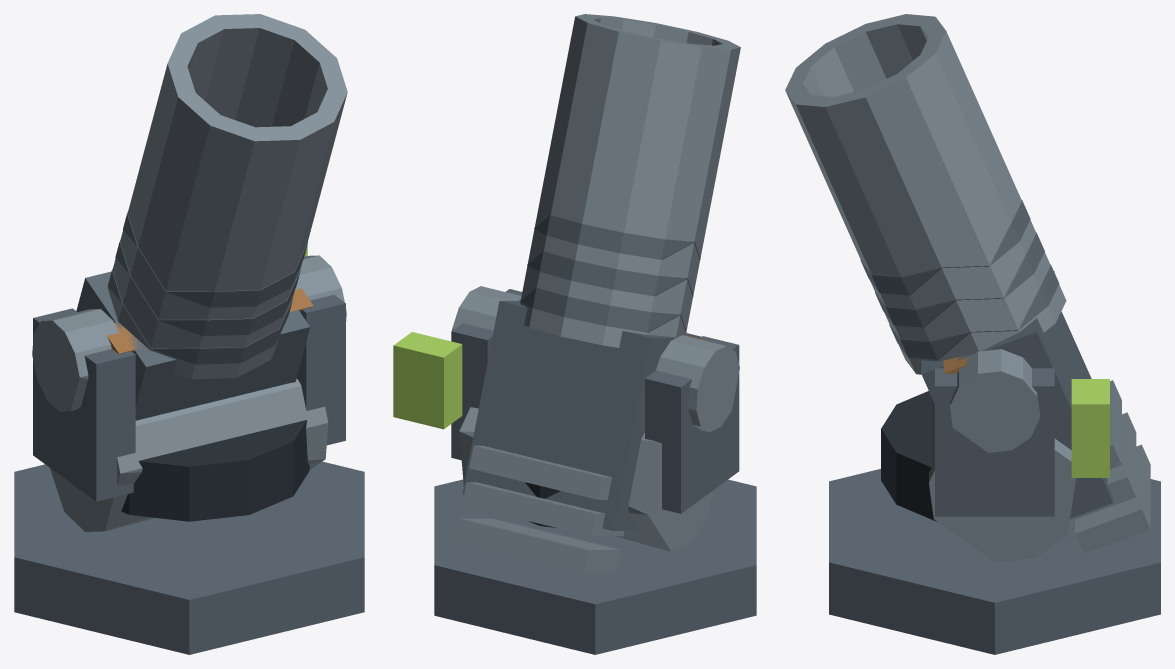
Rendered from mortar_t2_d0.meshopt.glb.
3 views of the same model, side by side, from view 1: azimuth 30°, elevation 25°; view 2: azimuth 150°, elevation 25°; view 3: azimuth 270°, elevation 25° (orthographic). The views are drawn at different scales.
Parts seen in each view (by area): view 1: ROOT_ARMOR_GEOMETRY; view 2: ROOT_ARMOR_GEOMETRY; view 3: ROOT_ARMOR_GEOMETRY.
Part boxes in pixels (x1,y1,x2,y2): ROOT_ARMOR_GEOMETRY: (14,14,364,654); ROOT_ARMOR_GEOMETRY: (393,14,756,654); ROOT_ARMOR_GEOMETRY: (785,14,1160,654).
Bounding box in the file's own units: 1.6 × 2.5 × 1.57.
